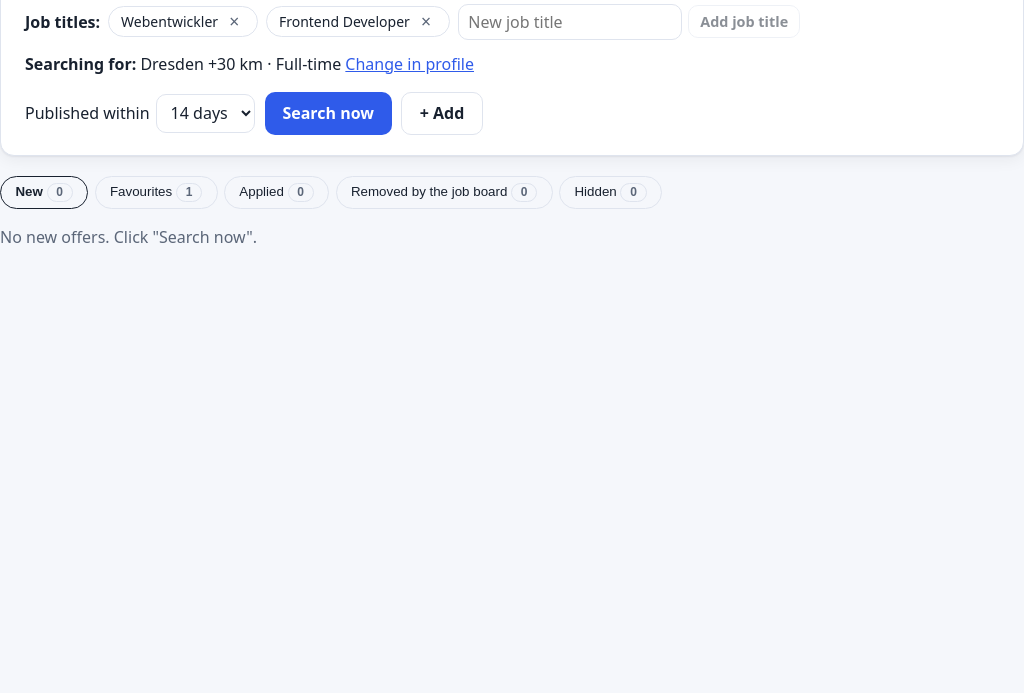
Test: Create package › a short offer text gets a warning; a failed job shows its error
What coordinates should you click on to do the following:
click the tab "Favourites 1"
I would click on:
 (156, 192)
Its box is [95,176,218,209].
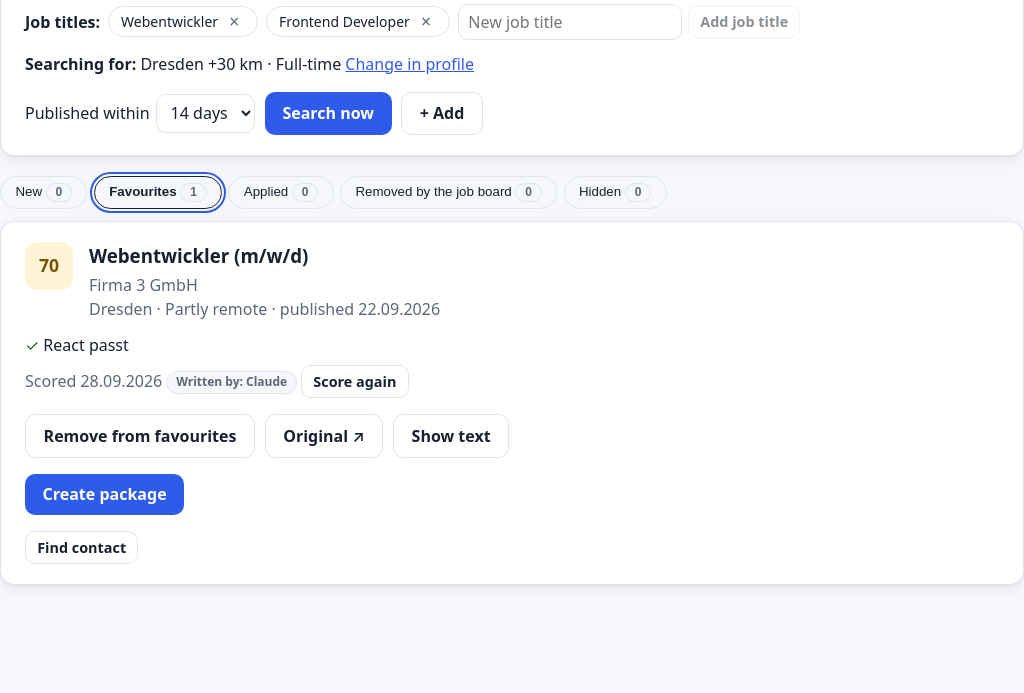
What coordinates should you click on to do the following:
click the button "Create package"
I would click on:
 (105, 494)
Its box is [25,474,184,515].
(page scrolled)
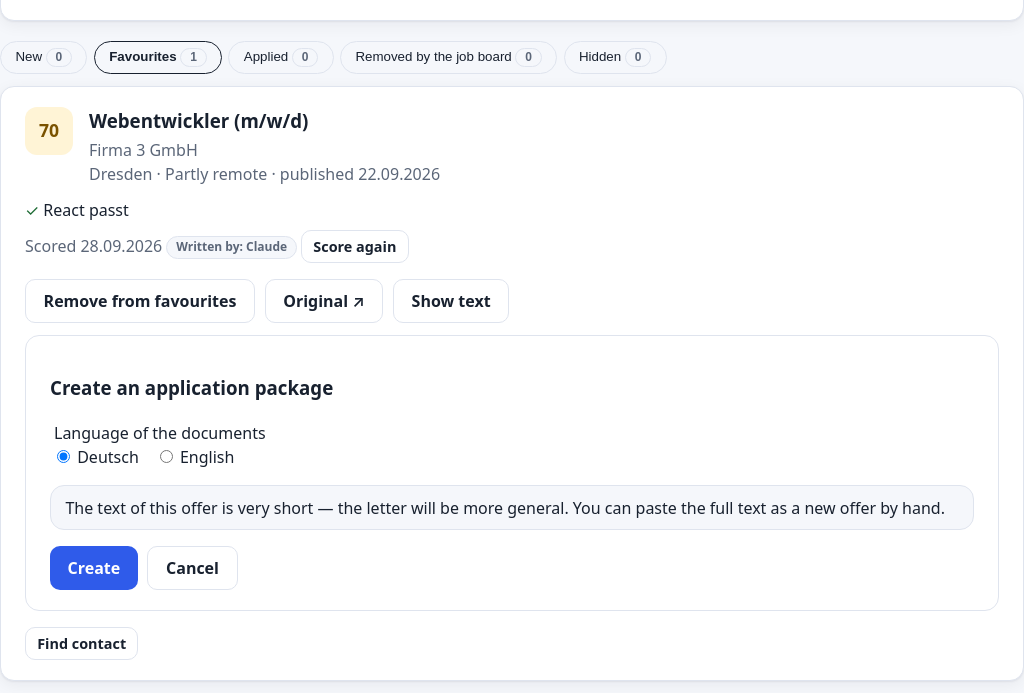
Now the text "very short" is shown, box [65,497,945,519]
What coordinates should you click on to do the following:
click the button "Create"
I would click on:
 (94, 568)
Its box is [50,546,138,590].
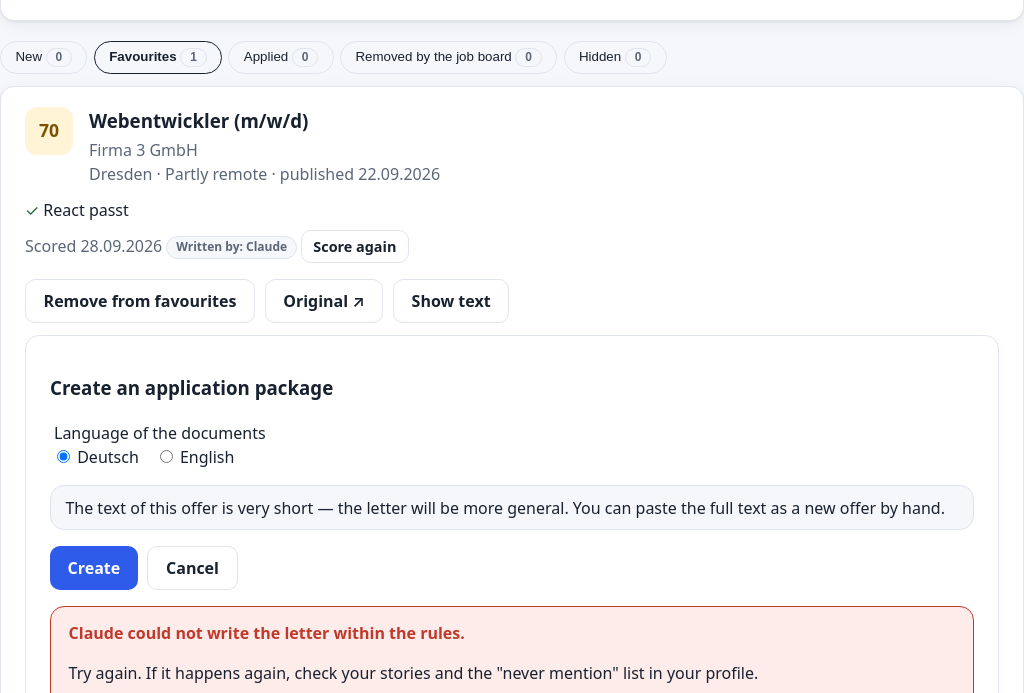
Now the text "Claude could not write the letter within the rules." is shown, box [69,622,465,644]
